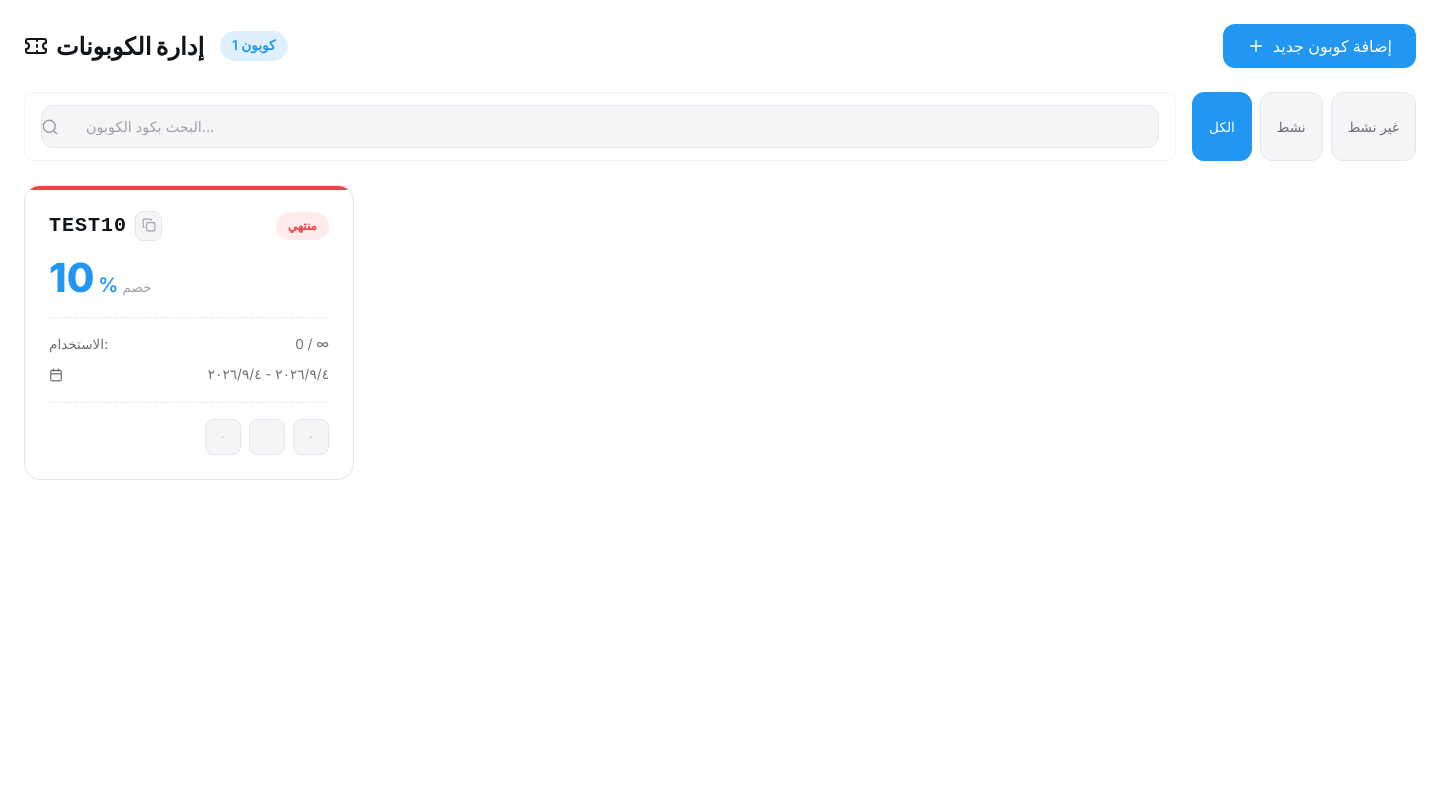
Test: CouponManager Page › should handle edit
# Find edit button (assuming layout, using class or title is better)
Click the button titled "تعديل": (267,436) [249, 418, 285, 454]
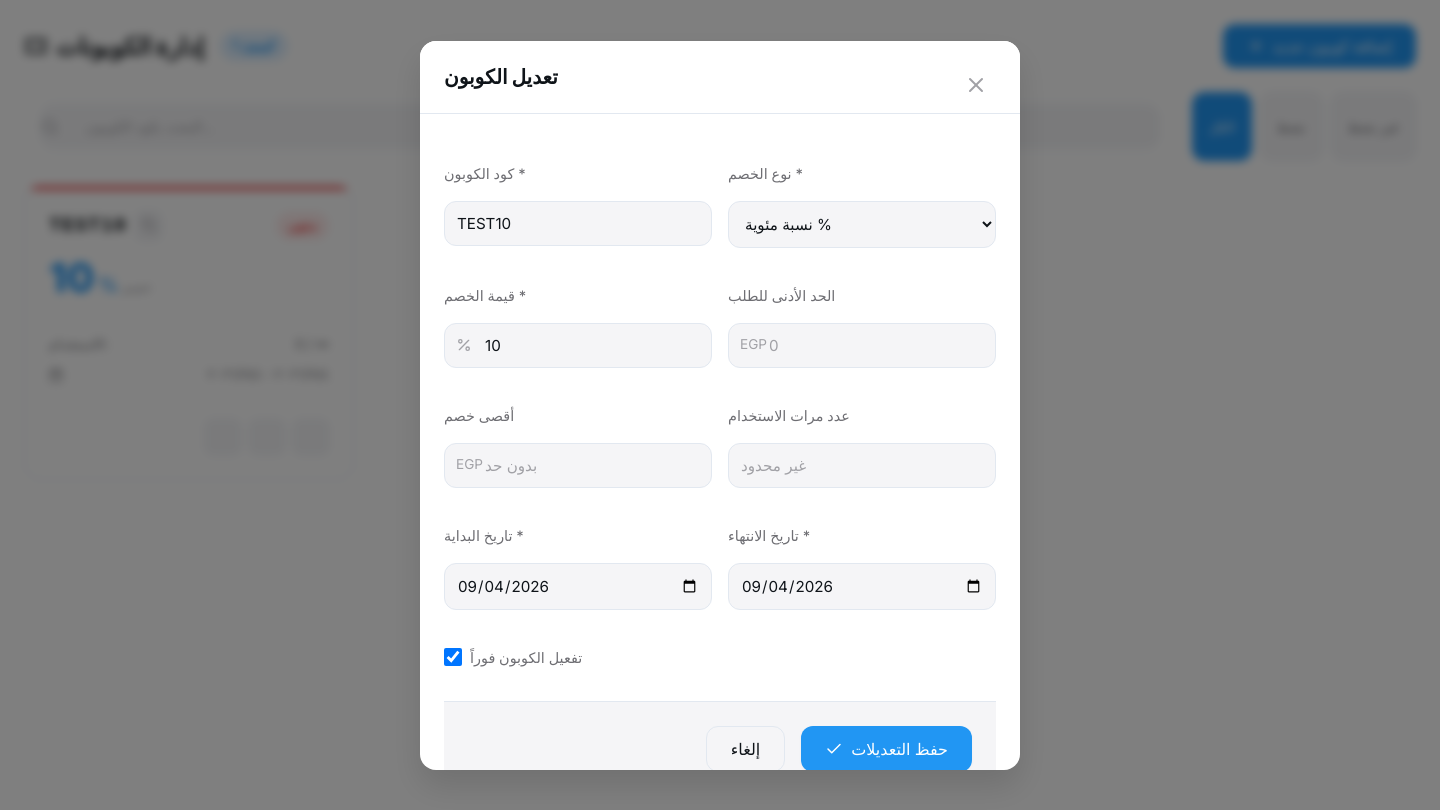
Expected: the heading "تعديل الكوبون" is shown, [444, 64, 558, 88]
Expected: the field showing "TEST10" is shown, [444, 200, 712, 246]
